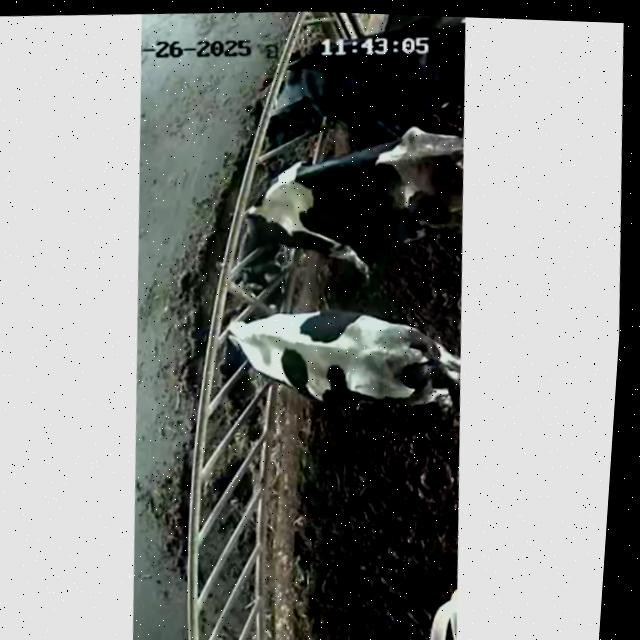eat: (184, 145, 379, 280), (171, 291, 354, 406), (213, 32, 383, 148)
